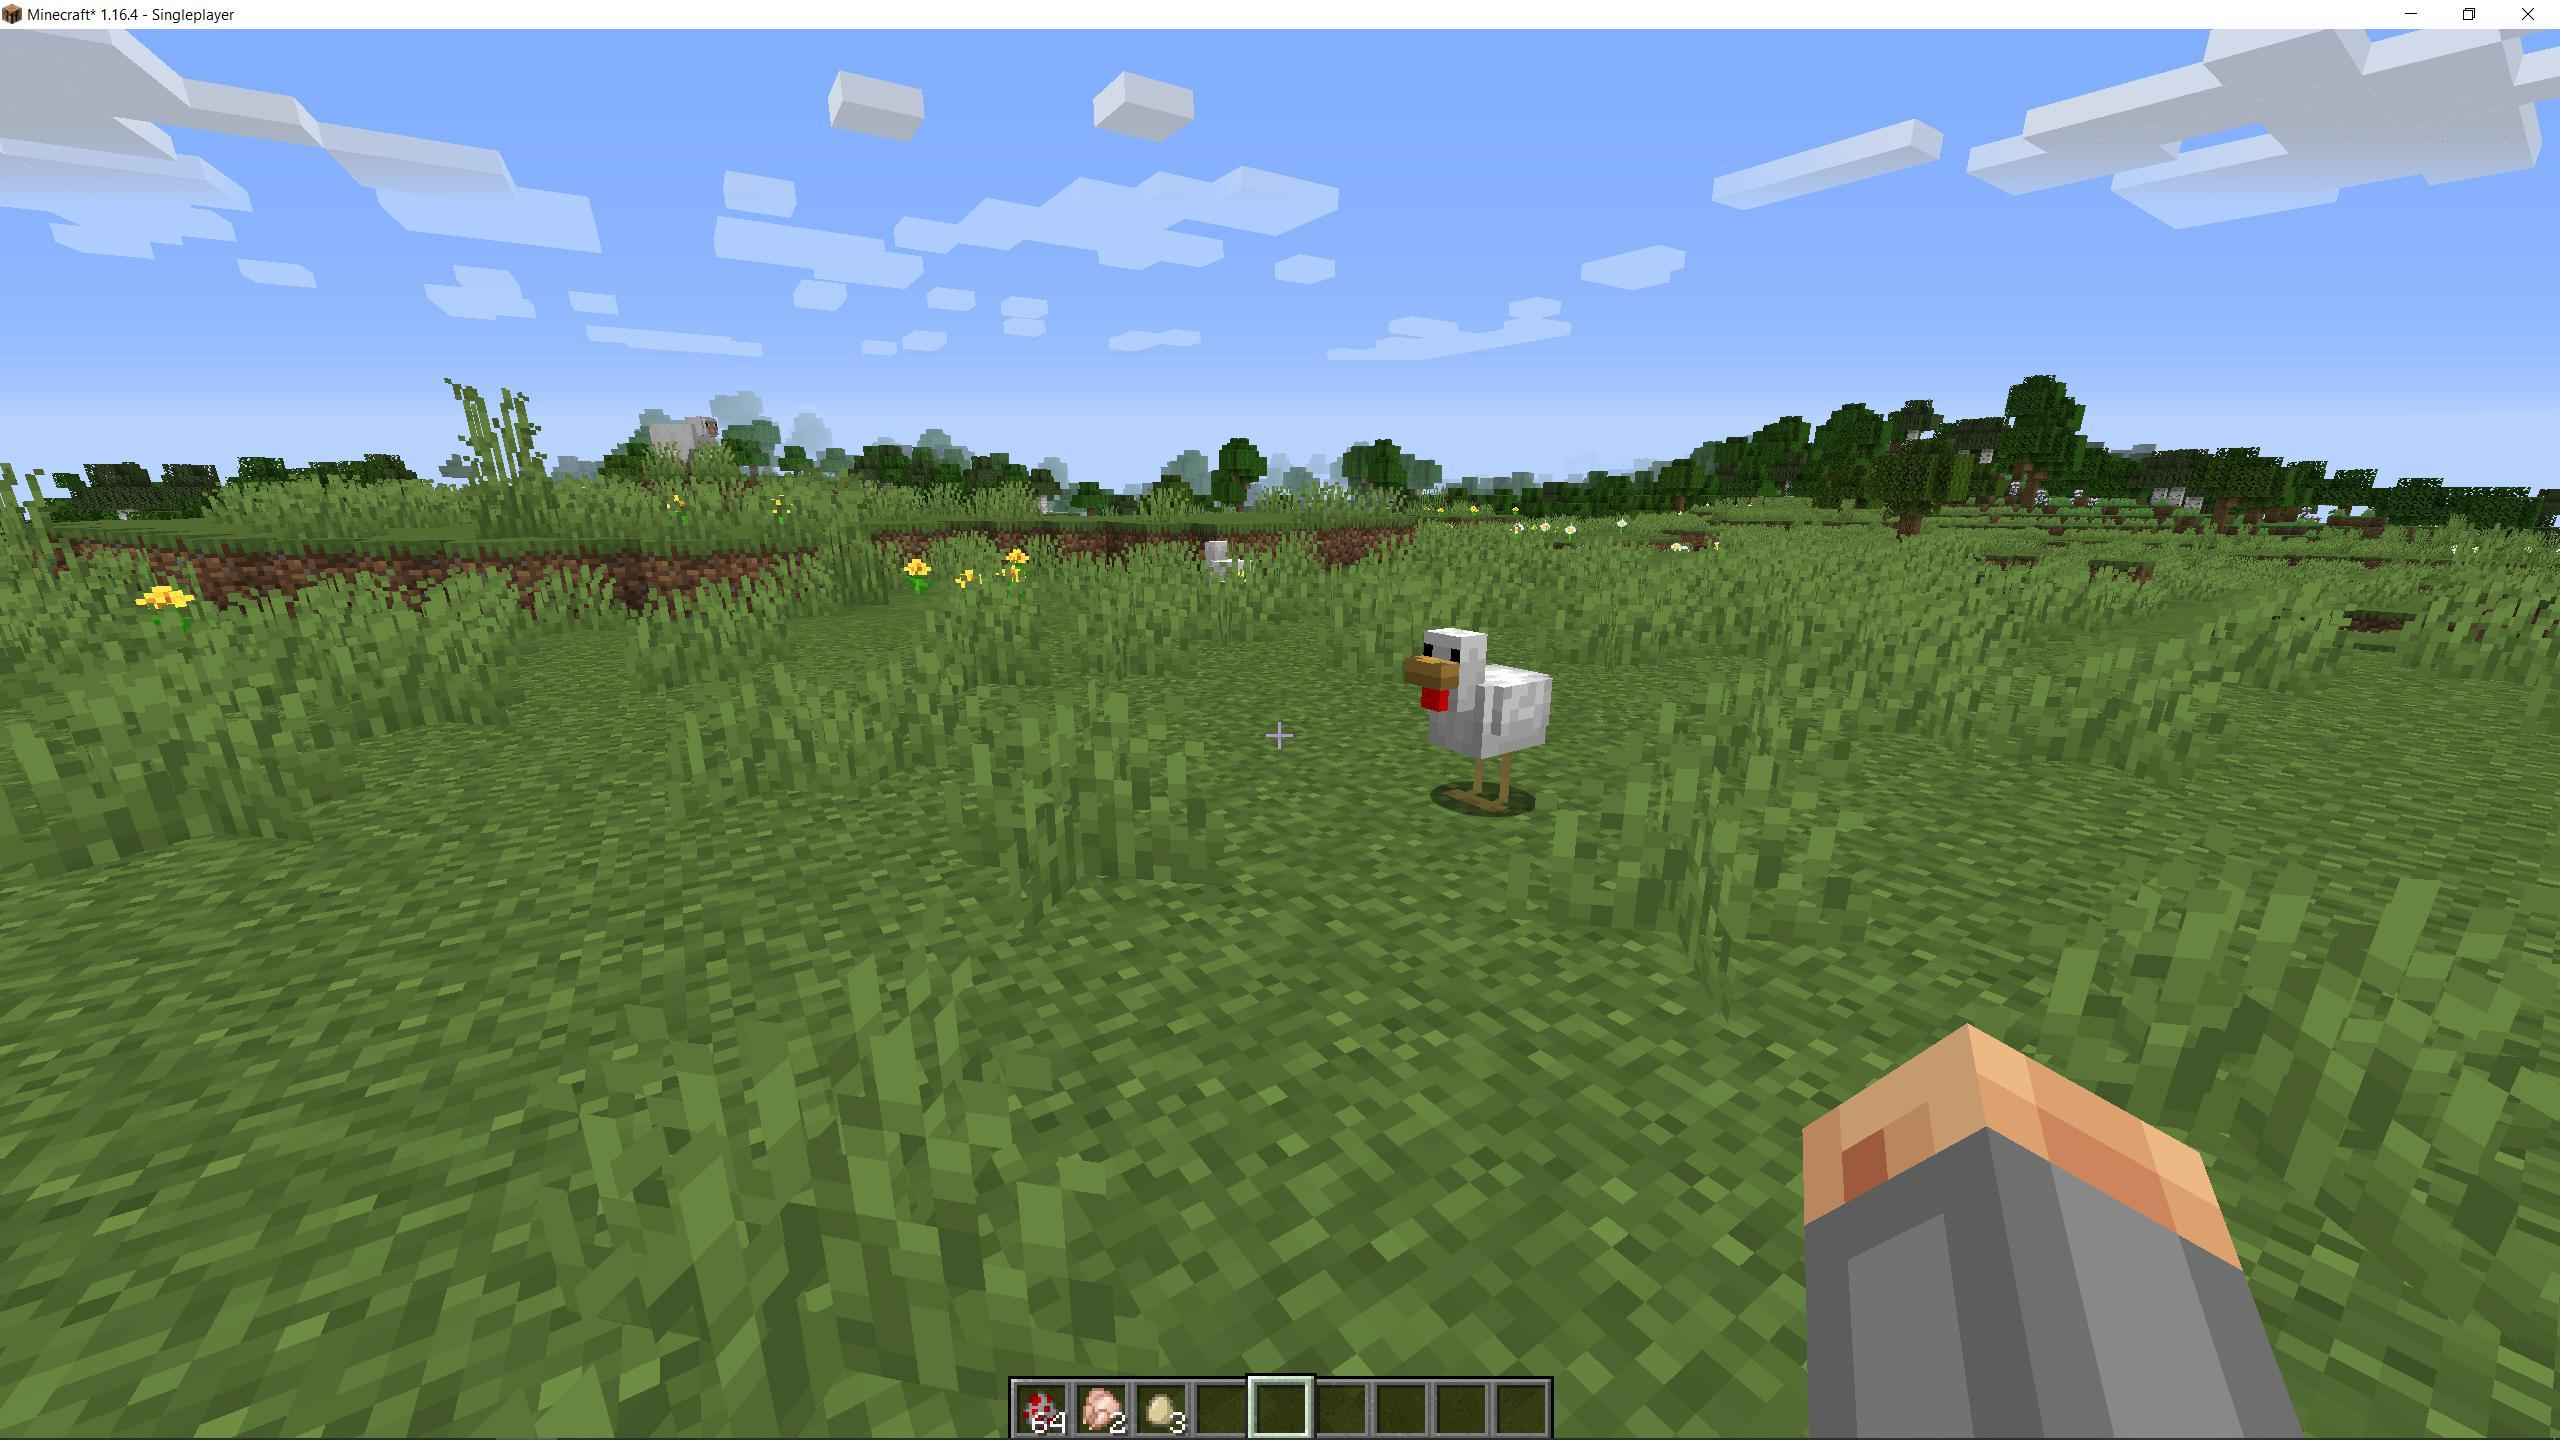chicken: (1400, 615, 1565, 832), (1194, 540, 1271, 615)
